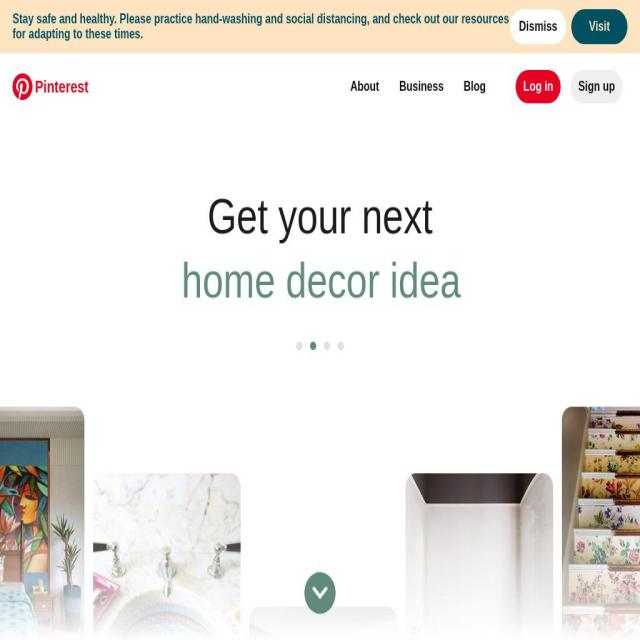login-option: (515, 70, 564, 107)
navigation-links: (337, 64, 488, 108)
sign-up-option: (574, 65, 624, 110)
